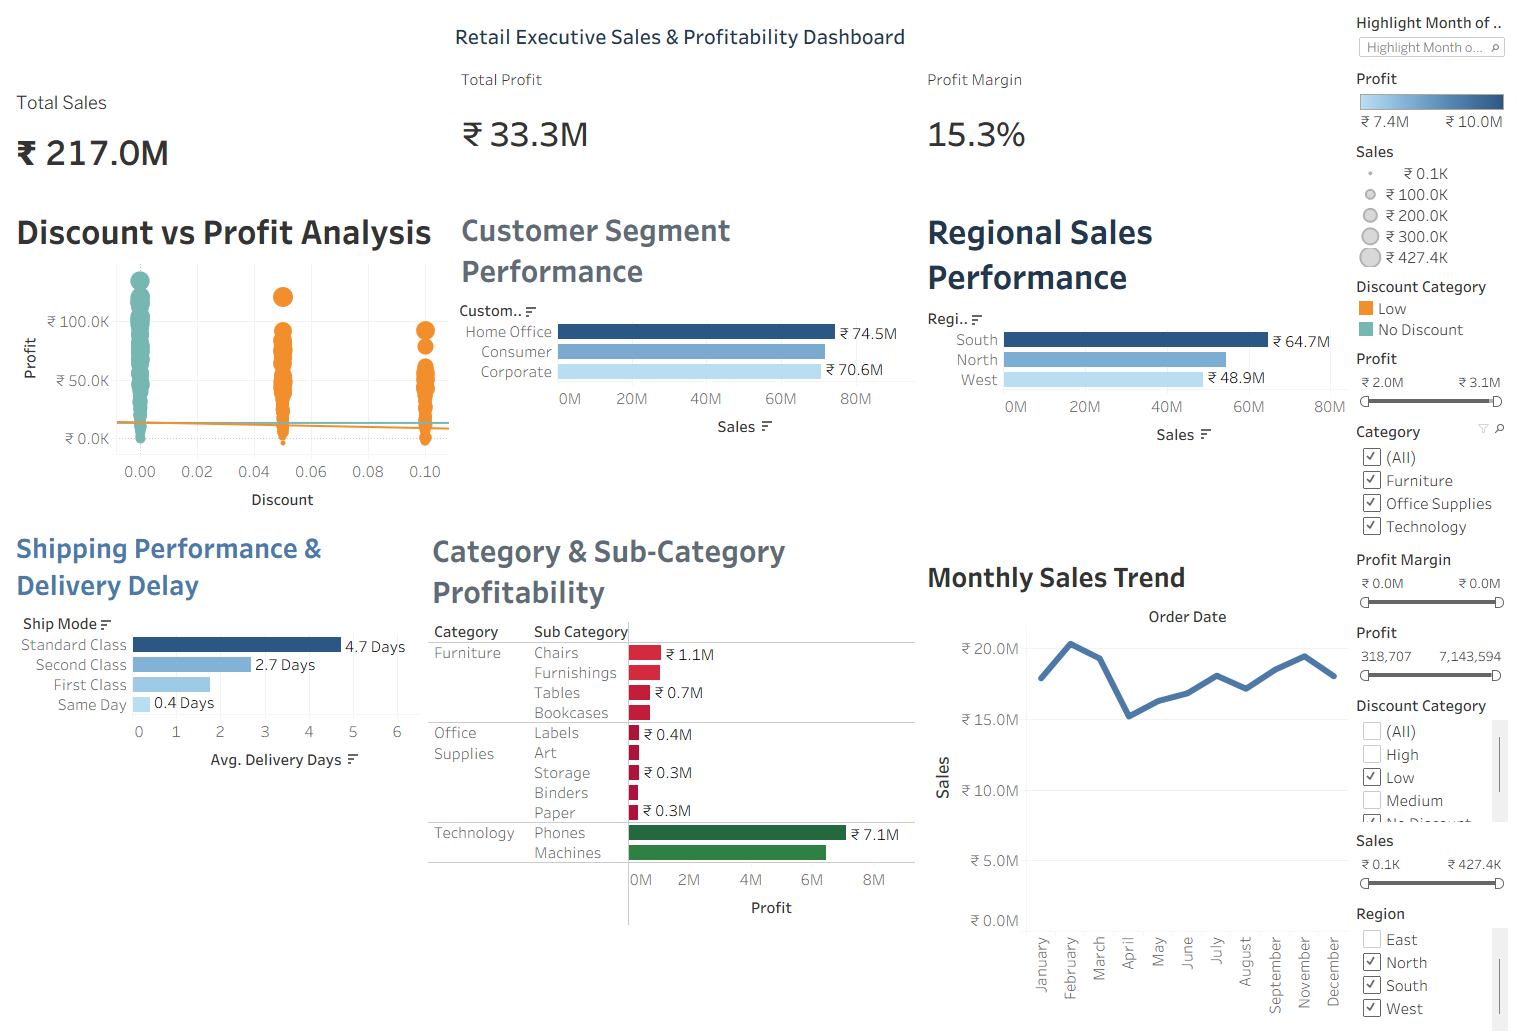

Layout of this report page (visuals, bound fields, positions):
{"tool":"tableau","page":{"name":"Retail Executive Dashboard","canvas":[1000,1000],"units":"permille","ordinal":0},"visuals":[{"type":"text","box":[6.9,13.5,847.2,53.9]},{"type":"highlighter","title":"Sales Trend View","param":"[federated.13oirfw08rlc0m1evr8rg1x6tikc].[mn:order_date:ok]","box":[854.2,13.5,138.9,87.8]},{"type":"worksheet","title":"KPI - Total Sales","mark":"Automatic","box":[6.9,67.4,280.3,128.4]},{"type":"worksheet","title":"KPI - Total Profit","mark":"Automatic","box":[287.2,67.4,294.3,128.4]},{"type":"worksheet","title":"KPI - Profit Margin","mark":"Automatic","box":[581.5,67.4,272.7,128.4]},{"type":"legend","title":"Regional Performance View","param":"[federated.13oirfw08rlc0m1evr8rg1x6tikc].[sum:profit:qk]","box":[854.2,101.3,138.9,88.5]},{"type":"legend","title":"Discount vs Profit View","param":"[federated.13oirfw08rlc0m1evr8rg1x6tikc].[sum:sales:qk]","box":[854.2,189.8,138.9,88.5]},{"type":"worksheet","title":"Discount vs Profit View","mark":"Circle","rows":["profit"],"cols":["discount"],"box":[6.9,195.8,280.3,304.2]},{"type":"worksheet","title":"Customer Segment View","mark":"Automatic","rows":["customer_segment"],"cols":["sales"],"box":[287.2,195.8,294.3,304.2]},{"type":"worksheet","title":"Regional Performance View","mark":"Automatic","rows":["region"],"cols":["sales"],"box":[581.5,195.8,272.7,331]},{"type":"legend","title":"Discount vs Profit View","param":"[federated.13oirfw08rlc0m1evr8rg1x6tikc].[none:Calculation_0514038893731845:nk]","box":[854.2,278.4,138.9,88.5]},{"type":"filter","title":"Sales Trend View","param":"[federated.13oirfw08rlc0m1evr8rg1x6tikc].[sum:profit:qk]","box":[854.2,366.9,138.9,88.5]},{"type":"filter","title":"Category Profitability View","param":"[federated.13oirfw08rlc0m1evr8rg1x6tikc].[none:category:nk]","box":[854.2,455.4,138.9,88.5]},{"type":"worksheet","title":"Shipping Performance View","mark":"Bar","rows":["ship_mode"],"cols":["delivery_days"],"box":[6.9,500,262,486.5]},{"type":"worksheet","title":"Category Profitability View","mark":"Automatic","rows":["category","sub_category"],"cols":["profit"],"box":[269,500,312.5,486.5]},{"type":"worksheet","title":"Sales Trend View","mark":"Line","rows":["sales"],"cols":["order_date"],"box":[581.5,526.8,272.7,459.7]},{"type":"filter","title":"Category Profitability View","param":"[federated.13oirfw08rlc0m1evr8rg1x6tikc].[usr:Calculation_0514038891896832:qk]","box":[854.2,543.9,138.9,88.5]},{"type":"filter","title":"Category Profitability View","param":"[federated.13oirfw08rlc0m1evr8rg1x6tikc].[sum:profit:qk]","box":[854.2,632.4,138.9,88.5]},{"type":"filter","title":"Discount vs Profit View","param":"[federated.13oirfw08rlc0m1evr8rg1x6tikc].[none:Calculation_0514038893731845:nk]","box":[854.2,720.9,138.9,88.5]},{"type":"filter","title":"Discount vs Profit View","param":"[federated.13oirfw08rlc0m1evr8rg1x6tikc].[sum:sales:qk]","box":[854.2,809.4,138.9,88.5]},{"type":"filter","title":"Regional Performance View","param":"[federated.13oirfw08rlc0m1evr8rg1x6tikc].[none:region:nk]","box":[854.2,897.9,138.9,88.6]}]}

Visuals, with their boxes on the dashboard's canvas, which has no fixed pixel size, in thousandths of its width and height (x1, y1, x2, y2). These are canvas units, not pixel positions in the 1518x1036 screenshot, which may show the page scaled, cropped or inside an application window:
text: {"x1": 7, "y1": 14, "x2": 854, "y2": 67}
"Sales Trend View" highlighter: {"x1": 854, "y1": 14, "x2": 993, "y2": 101}
"KPI - Total Sales" worksheet: {"x1": 7, "y1": 67, "x2": 287, "y2": 196}
"KPI - Total Profit" worksheet: {"x1": 287, "y1": 67, "x2": 582, "y2": 196}
"KPI - Profit Margin" worksheet: {"x1": 582, "y1": 67, "x2": 854, "y2": 196}
"Regional Performance View" legend: {"x1": 854, "y1": 101, "x2": 993, "y2": 190}
"Discount vs Profit View" legend: {"x1": 854, "y1": 190, "x2": 993, "y2": 278}
"Discount vs Profit View" worksheet (Circle marks): {"x1": 7, "y1": 196, "x2": 287, "y2": 500}
"Customer Segment View" worksheet: {"x1": 287, "y1": 196, "x2": 582, "y2": 500}
"Regional Performance View" worksheet: {"x1": 582, "y1": 196, "x2": 854, "y2": 527}
"Discount vs Profit View" legend: {"x1": 854, "y1": 278, "x2": 993, "y2": 367}
"Sales Trend View" filter: {"x1": 854, "y1": 367, "x2": 993, "y2": 455}
"Category Profitability View" filter: {"x1": 854, "y1": 455, "x2": 993, "y2": 544}
"Shipping Performance View" worksheet (Bar marks): {"x1": 7, "y1": 500, "x2": 269, "y2": 986}
"Category Profitability View" worksheet: {"x1": 269, "y1": 500, "x2": 582, "y2": 986}
"Sales Trend View" worksheet (Line marks): {"x1": 582, "y1": 527, "x2": 854, "y2": 986}
"Category Profitability View" filter: {"x1": 854, "y1": 544, "x2": 993, "y2": 632}
"Category Profitability View" filter: {"x1": 854, "y1": 632, "x2": 993, "y2": 721}
"Discount vs Profit View" filter: {"x1": 854, "y1": 721, "x2": 993, "y2": 809}
"Discount vs Profit View" filter: {"x1": 854, "y1": 809, "x2": 993, "y2": 898}
"Regional Performance View" filter: {"x1": 854, "y1": 898, "x2": 993, "y2": 986}
